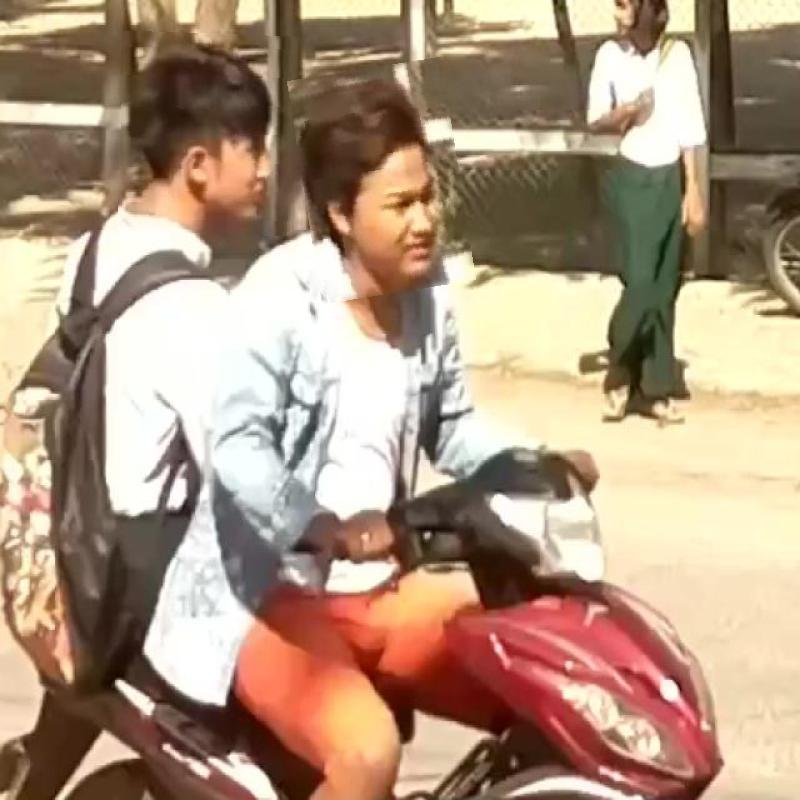nohelmet: (296, 62, 468, 300), (118, 33, 297, 236)
